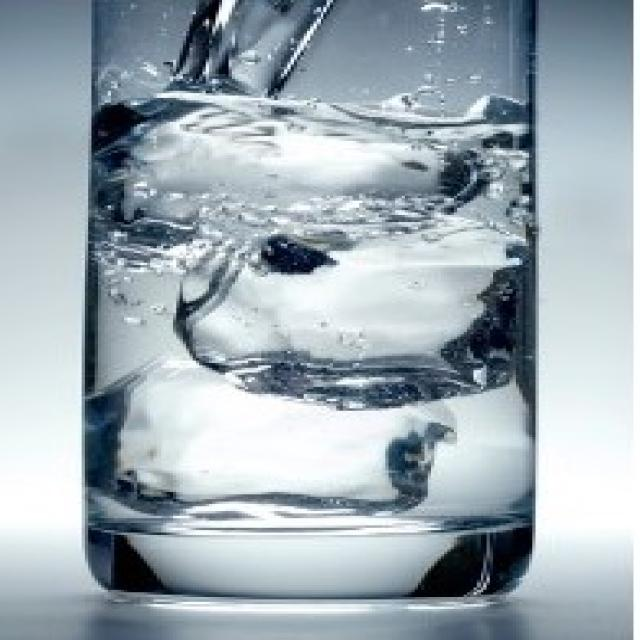electronic: (87, 0, 541, 611)
